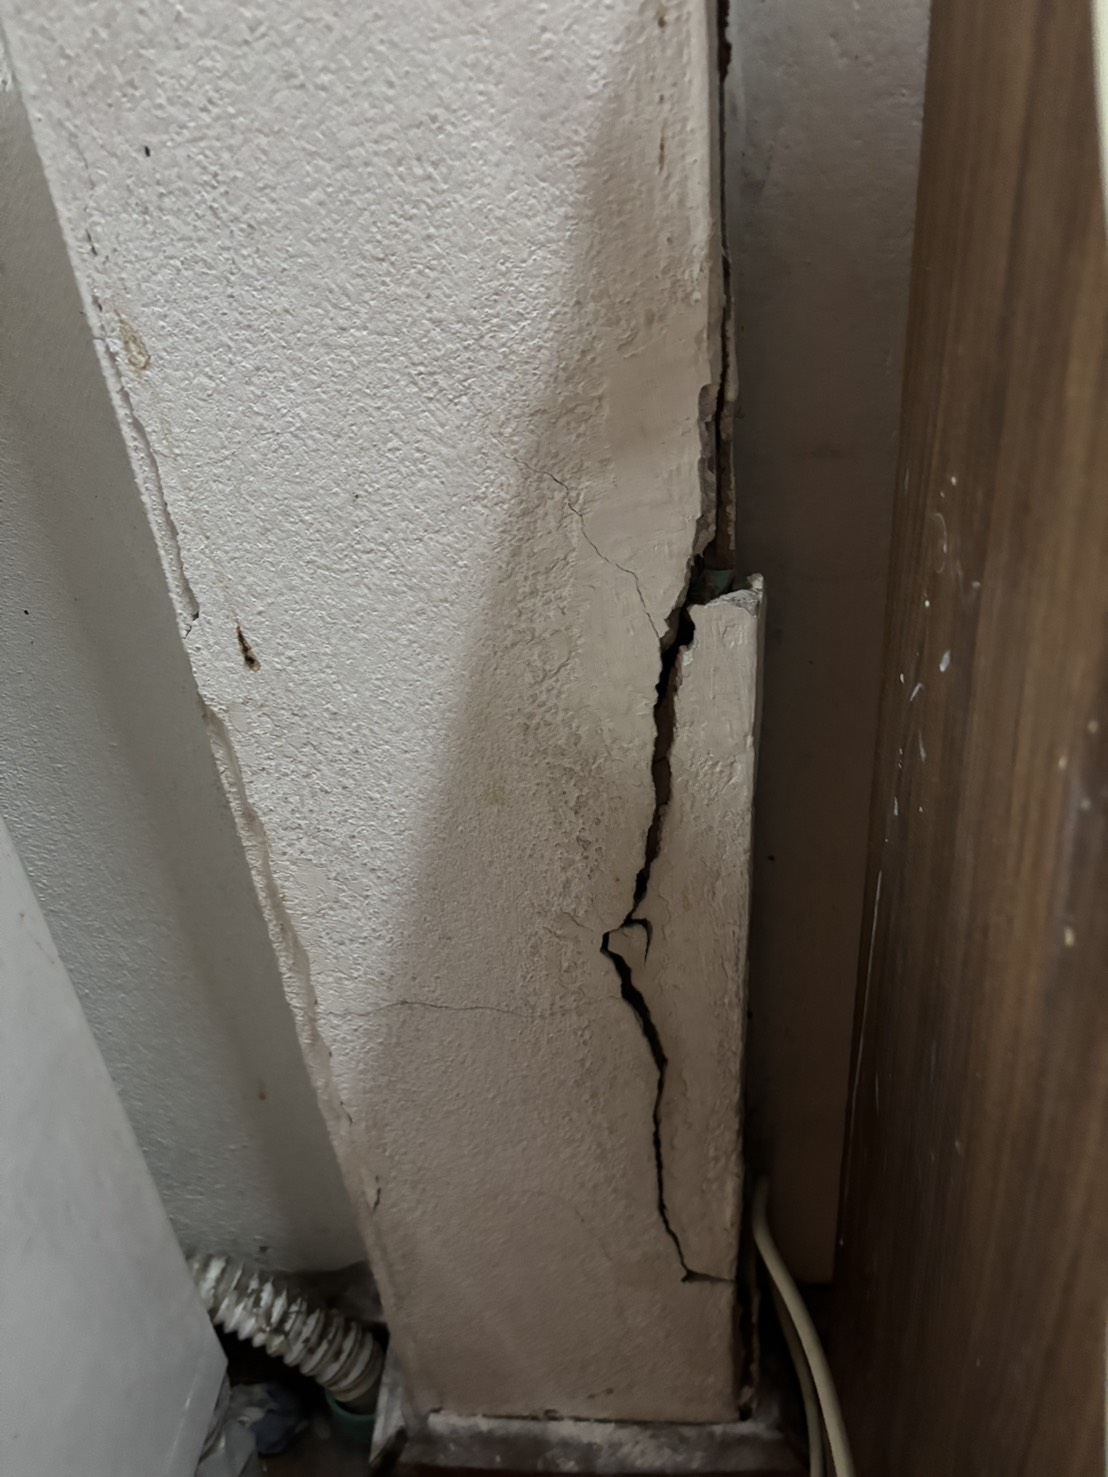High: (514, 12, 811, 1387)
